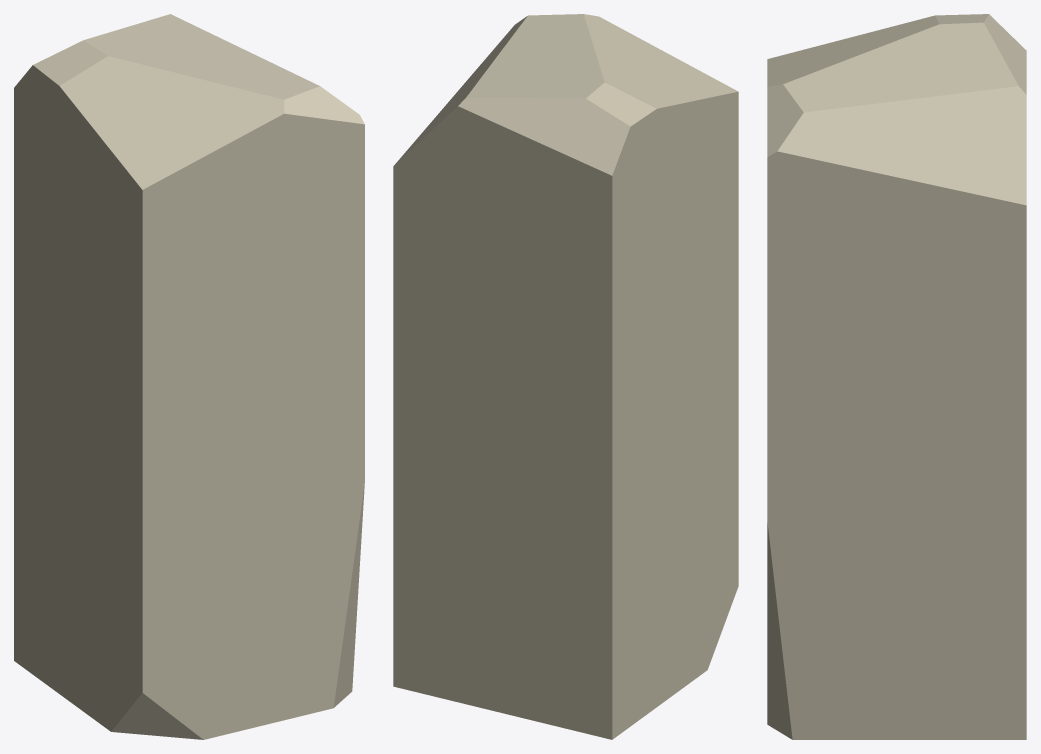
Rendered from Rock_Square_m_13.fbx.
The picture shows the model from 3 angles, left to right: view 1: azimuth 30°, elevation 25°; view 2: azimuth 150°, elevation 25°; view 3: azimuth 270°, elevation 25°; orthographic projection. The views are drawn at different scales.
Visible parts, largest first — view 1: Rock_Square_m_13; view 2: Rock_Square_m_13; view 3: Rock_Square_m_13.
Part boxes in pixels (<box>): Rock_Square_m_13: <box>14,14,364,739</box>; Rock_Square_m_13: <box>393,14,738,739</box>; Rock_Square_m_13: <box>767,14,1026,739</box>.
Bounding box in the file's own units: 43.2 × 116 × 43.2.
